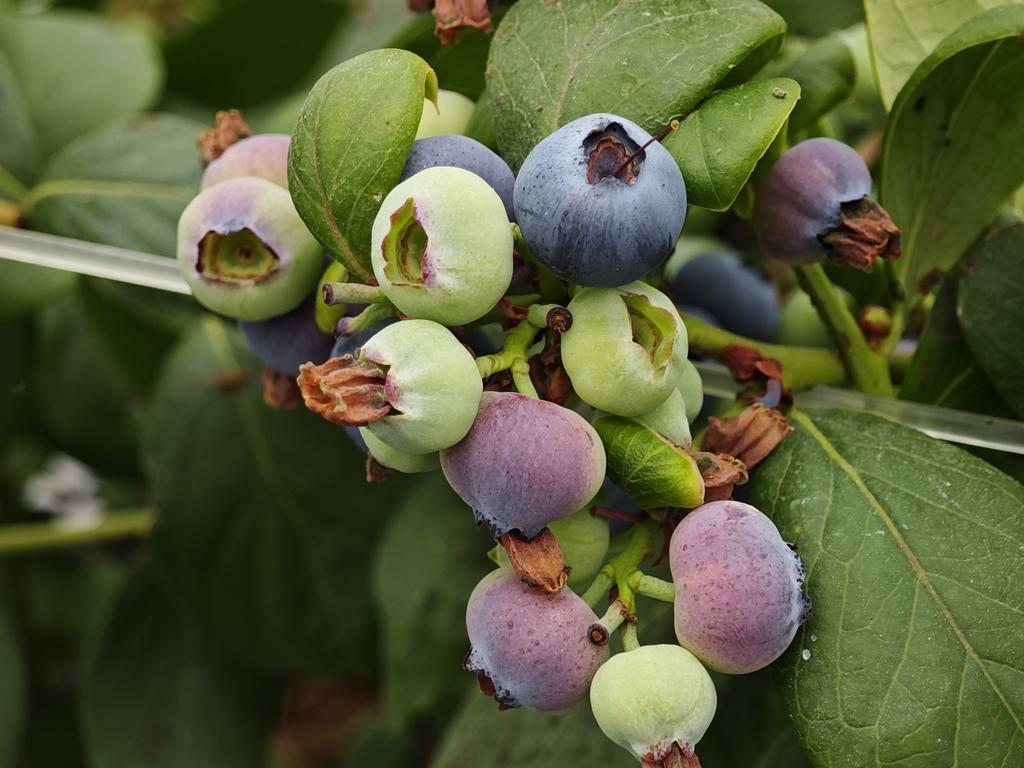RipeBlueBerry: (527, 112, 692, 281)
Semi-RipeBlueBerry: (443, 384, 611, 532), (672, 500, 806, 672), (470, 564, 603, 711), (759, 139, 898, 262)
UnripeBlueBerry: (372, 159, 511, 313), (179, 176, 313, 318), (352, 317, 479, 451), (613, 521, 664, 540)
